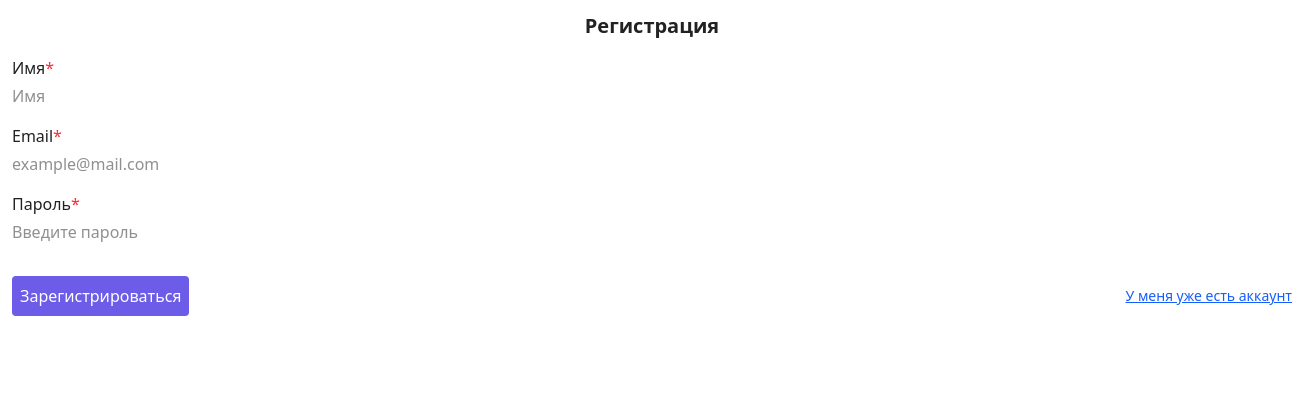
Test: RegisterForm › показывает ошибки валидации при пустых полях
The width and height of the screenshot is (1304, 405).
Click the button "Зарегистрироваться".
click(101, 296)  # box [12,276,189,316]
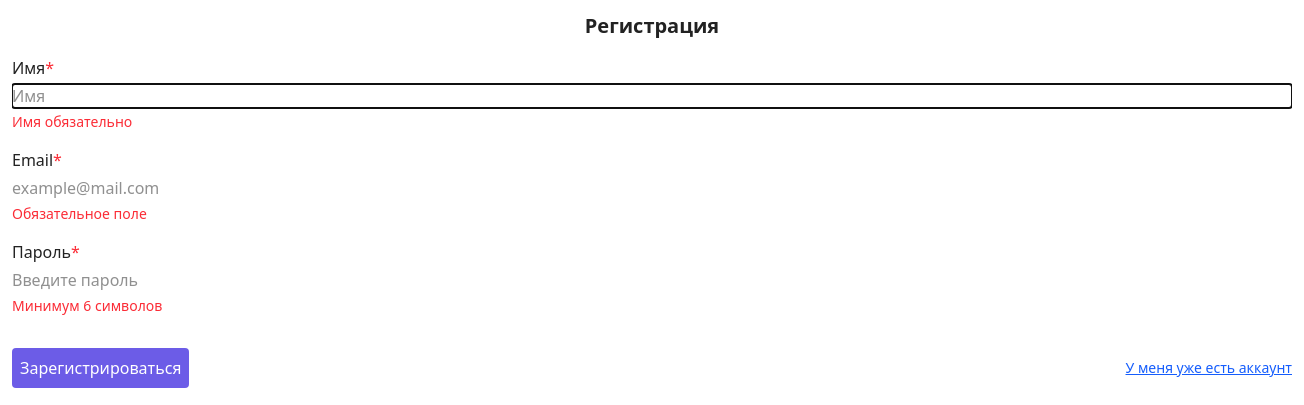
expect the text "Имя обязательно" is shown: met, box [12,112,132,131]
expect the text "Обязательное поле" is shown: met, box [12,204,147,223]
